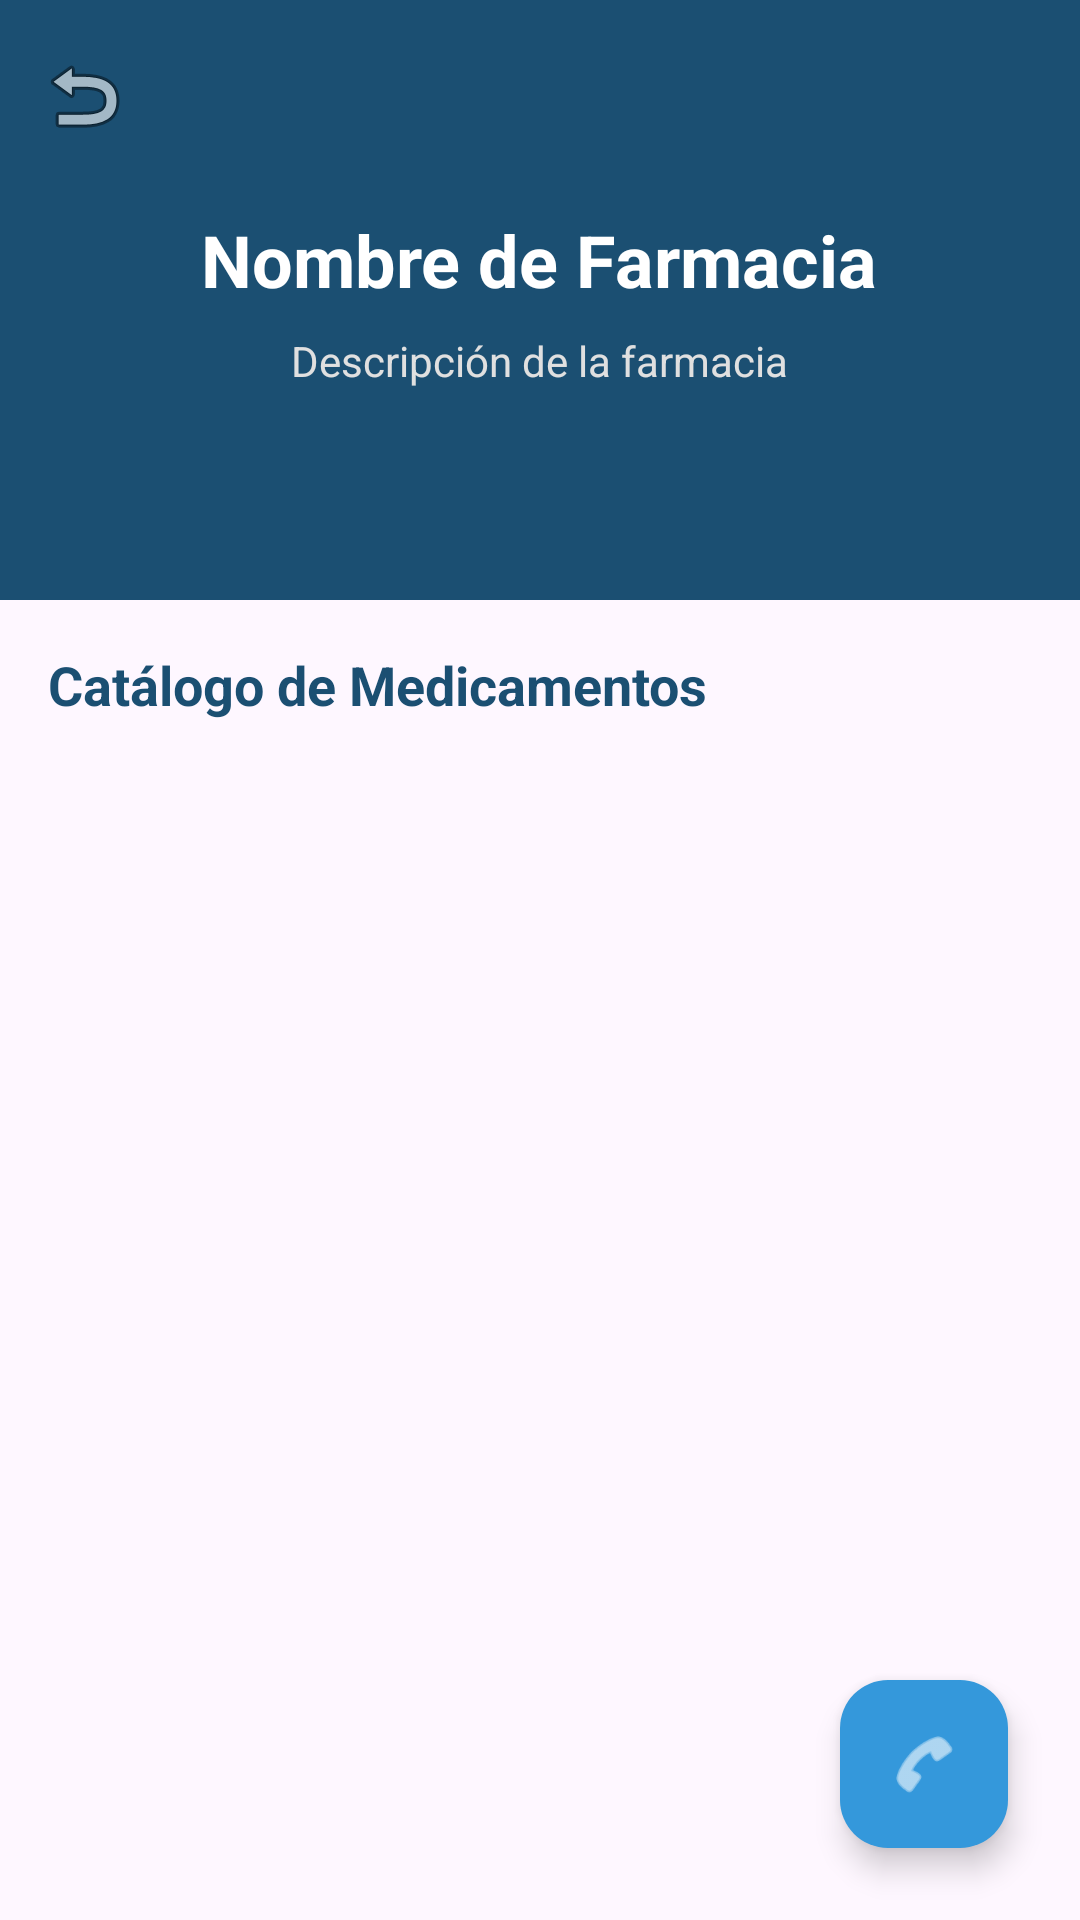

Icons on this 1080*1920 Android screen, each with its box as (x1, y1, x2, y2):
Llamar a farmacia: (840, 1680, 1008, 1848)
